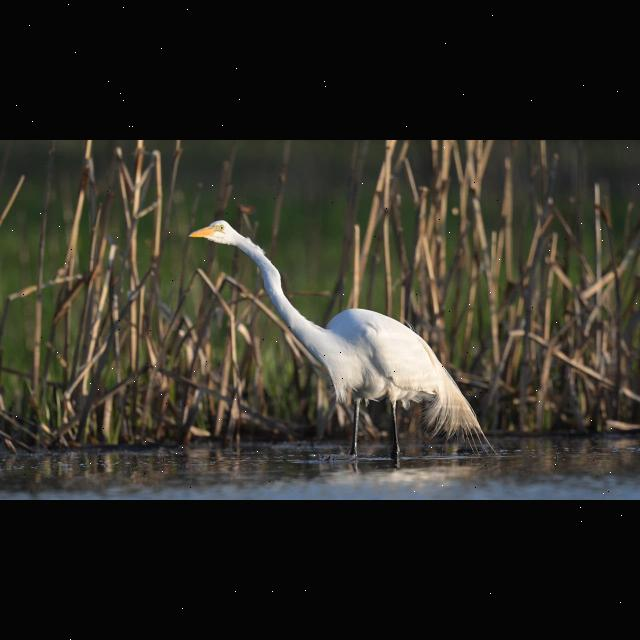egret: (188, 220, 482, 450)
